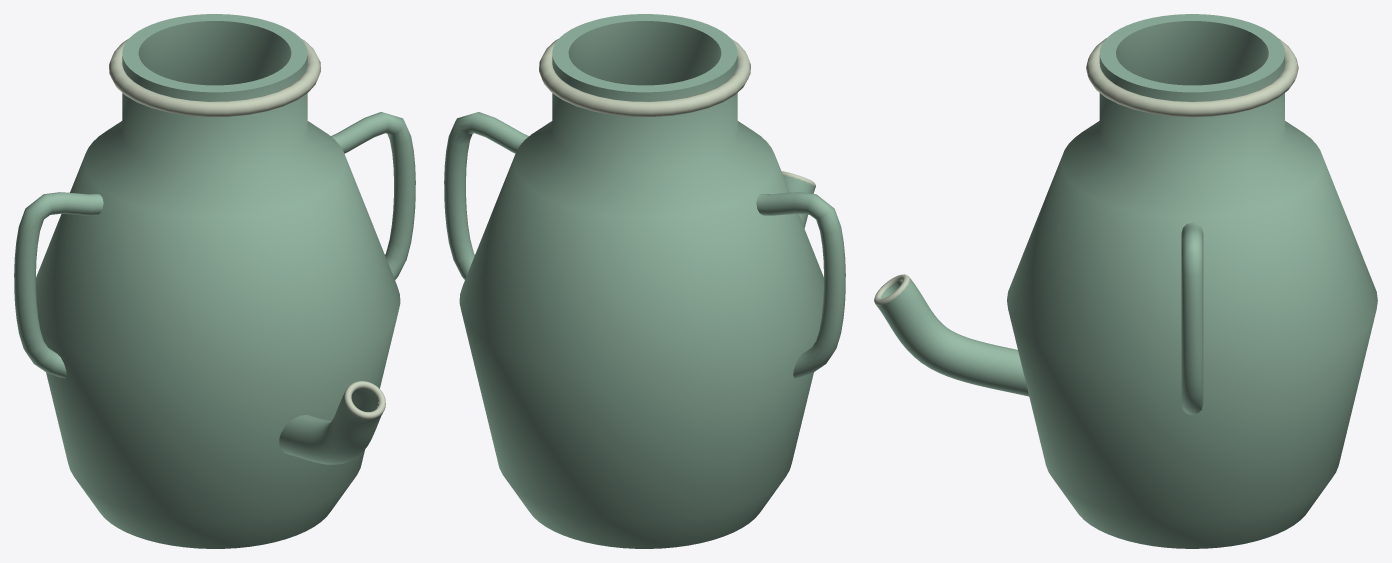
File: enchanted-harp-garden-and-music-sanctuary-water-resona-7b8fc263__30435.glb
3 views of the same model, side by side, from view 1: azimuth 30°, elevation 25°; view 2: azimuth 150°, elevation 25°; view 3: azimuth 270°, elevation 25° (orthographic).
Visible parts, largest first — view 1: water-resonator-urn; view 2: water-resonator-urn; view 3: water-resonator-urn.
Boxes of the visible parts, <box> form: water-resonator-urn: <box>14,14,415,548</box>; water-resonator-urn: <box>444,14,845,548</box>; water-resonator-urn: <box>874,14,1377,548</box>.
Size of the model in its own units: 0.8439 by 0.9001 by 0.9234.
